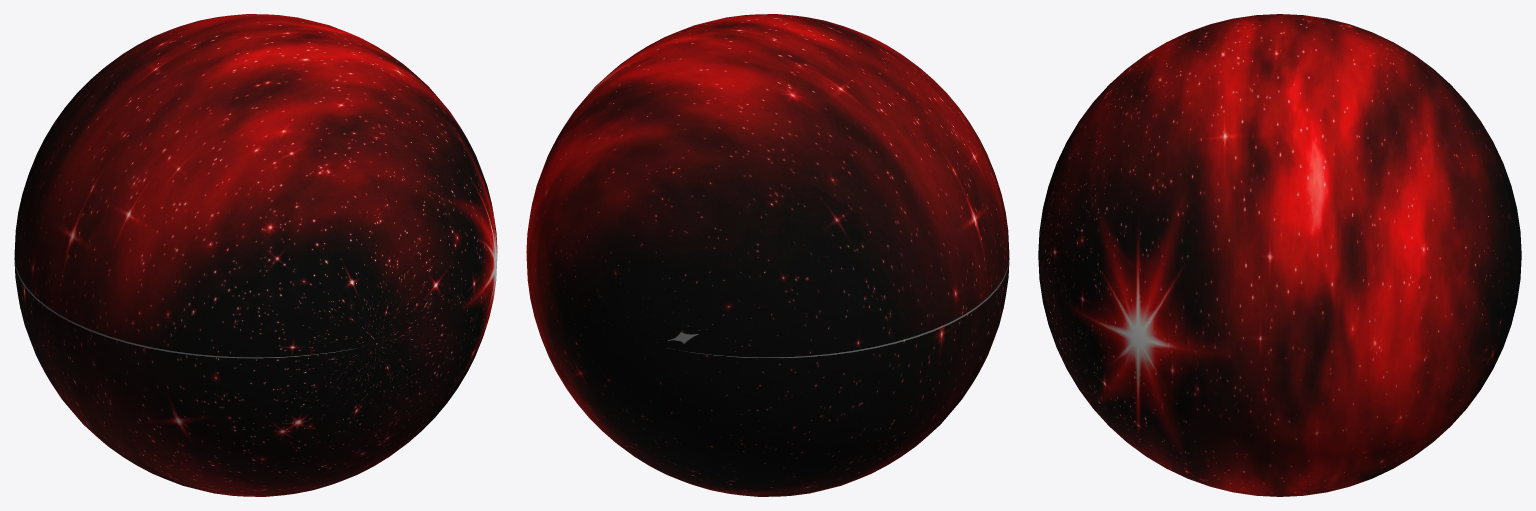
Rendered from tanjirofinal5.glb.
3 views of the same model, side by side, from view 1: azimuth 30°, elevation 25°; view 2: azimuth 150°, elevation 25°; view 3: azimuth 270°, elevation 25° (orthographic).
Visible parts, largest first — view 1: Parralax_Sphere_HalfTone_0; view 2: Parralax_Sphere_HalfTone_0; view 3: Parralax_Sphere_HalfTone_0.
Boxes of the visible parts, box(x1,y1,x2,y2) form: Parralax_Sphere_HalfTone_0: box(14, 14, 497, 496); Parralax_Sphere_HalfTone_0: box(526, 14, 1009, 496); Parralax_Sphere_HalfTone_0: box(1038, 14, 1521, 496).
Bounding box in the file's own units: 889 × 889 × 889.
7 materials, 7 textured.
